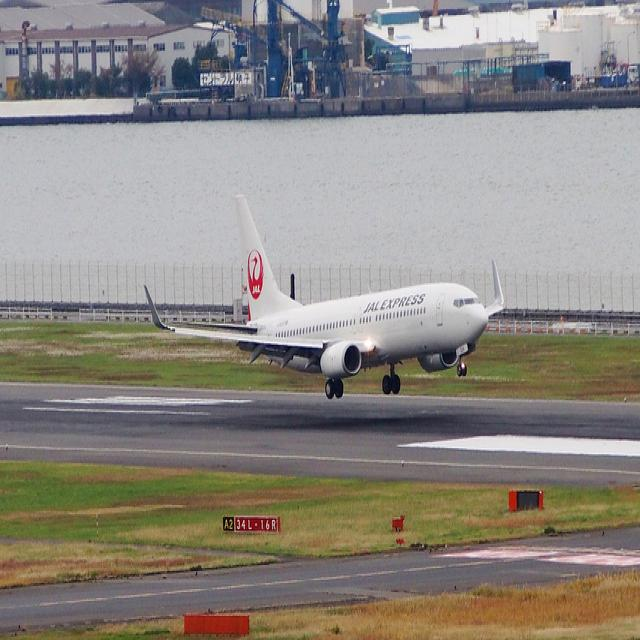Vehicle: (602, 66, 638, 88), (386, 52, 406, 72)
